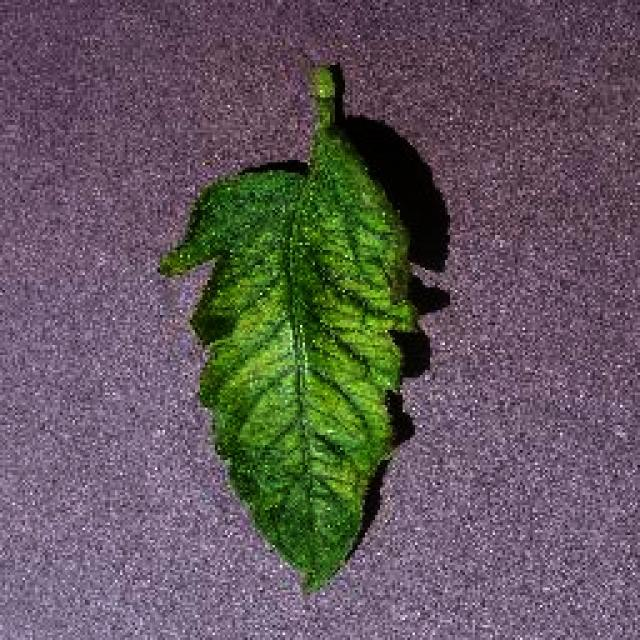Tomato mosaic virus leaf: (160, 138, 422, 596)
